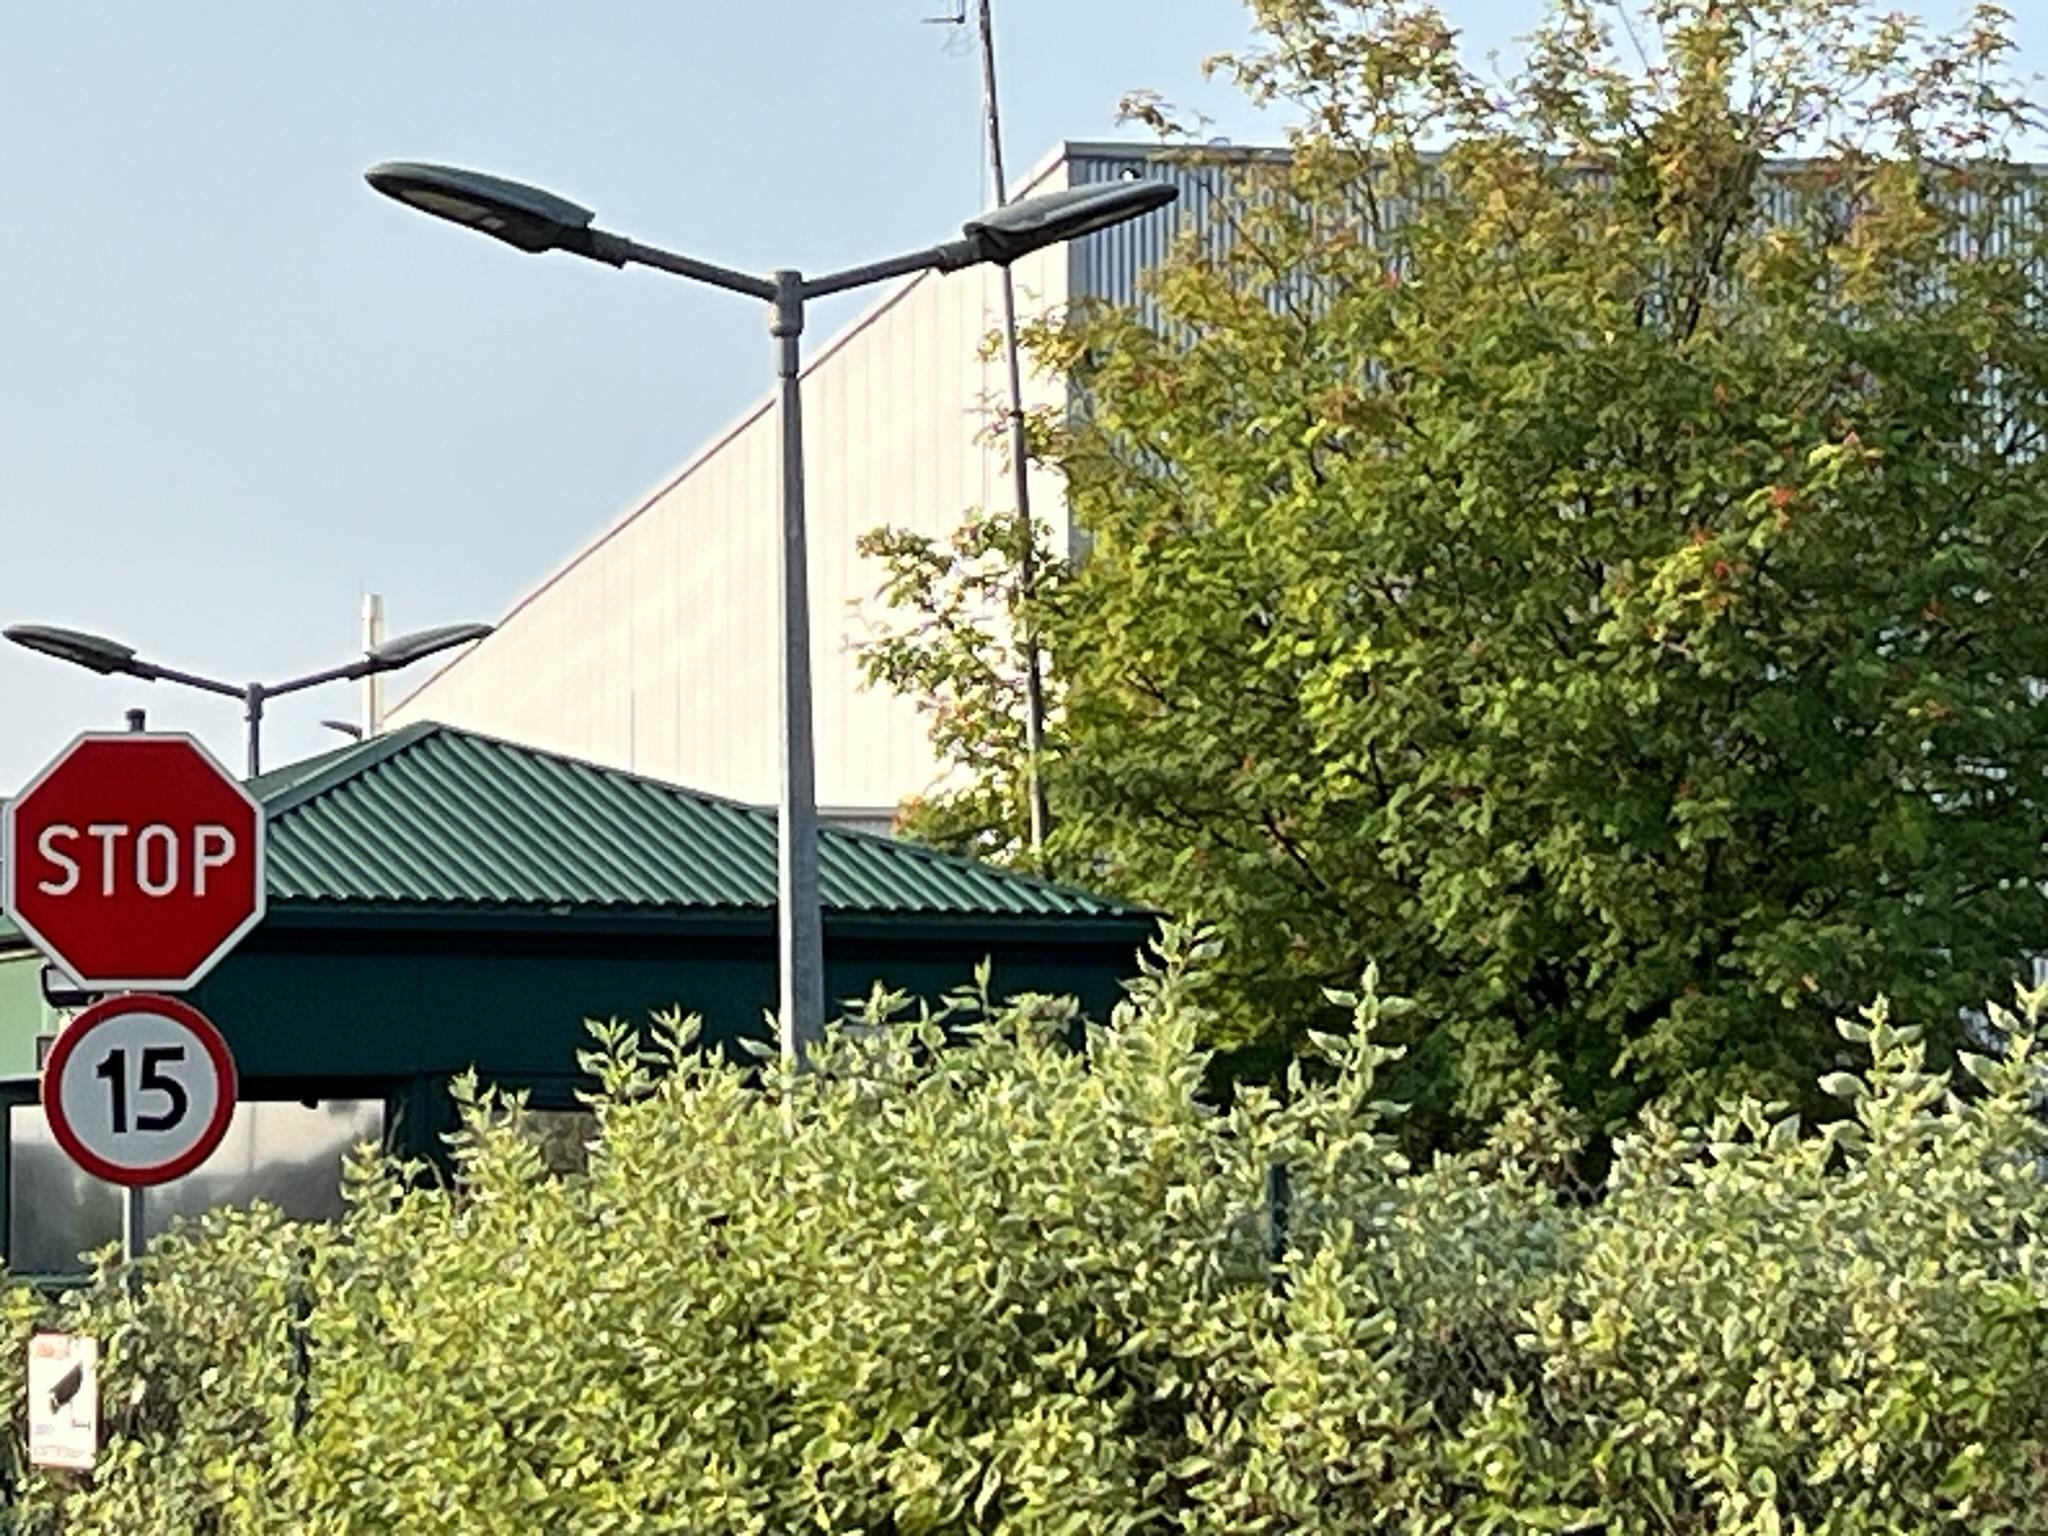prohibitory: (3, 731, 269, 989), (42, 994, 240, 1191)
